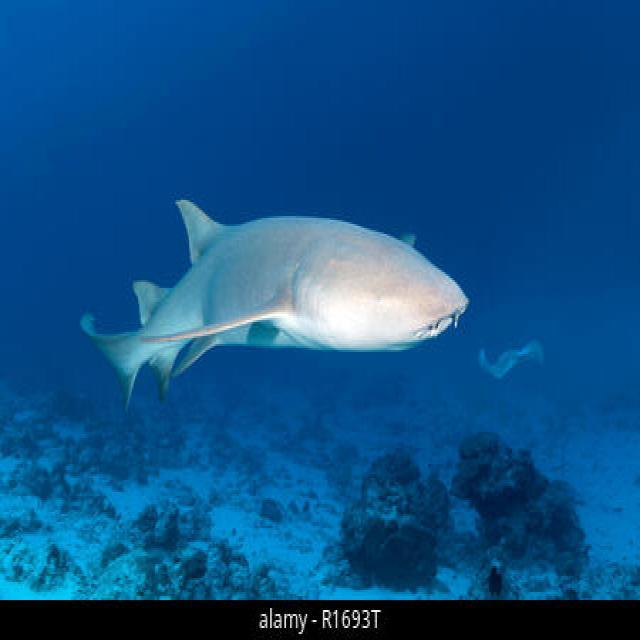Shark: (52, 162, 478, 432)
